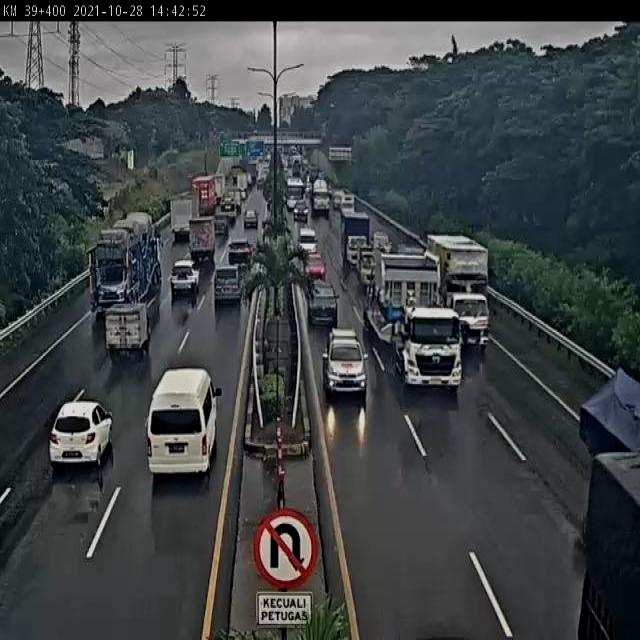Bus: (286, 177, 306, 210)
Car: (49, 399, 113, 467), (322, 327, 368, 397), (307, 280, 338, 327), (170, 260, 199, 298), (226, 240, 252, 271), (304, 252, 325, 281), (292, 201, 310, 222), (244, 209, 258, 228)
Truck: (368, 248, 464, 390), (424, 229, 498, 354), (87, 212, 163, 324), (103, 304, 153, 366), (339, 209, 370, 271), (188, 216, 217, 266), (191, 174, 219, 218), (170, 197, 193, 248), (311, 177, 331, 215)
Van: (146, 368, 219, 474), (213, 266, 240, 304), (297, 226, 318, 256)
